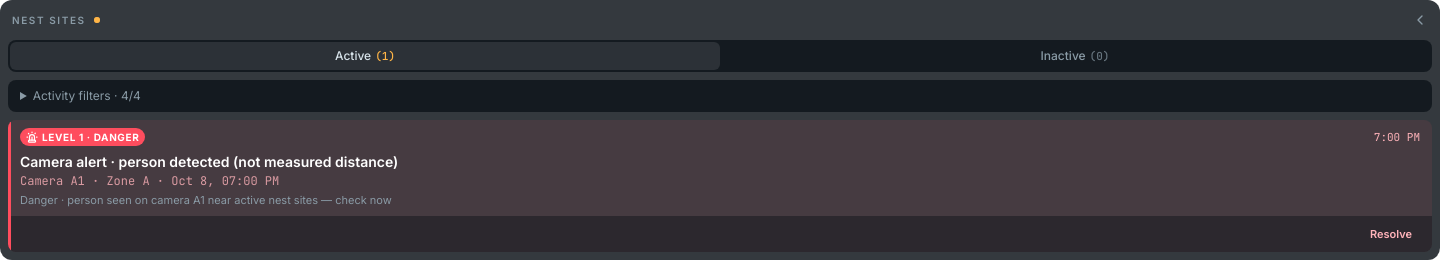
Scenario: AlertsFeed camera-level danger › shows the server message when a resolve fails
Click the button with aria-label "Resolve camera alert on camera A1" at (1391, 234), box 1362,222 -> 1420,246
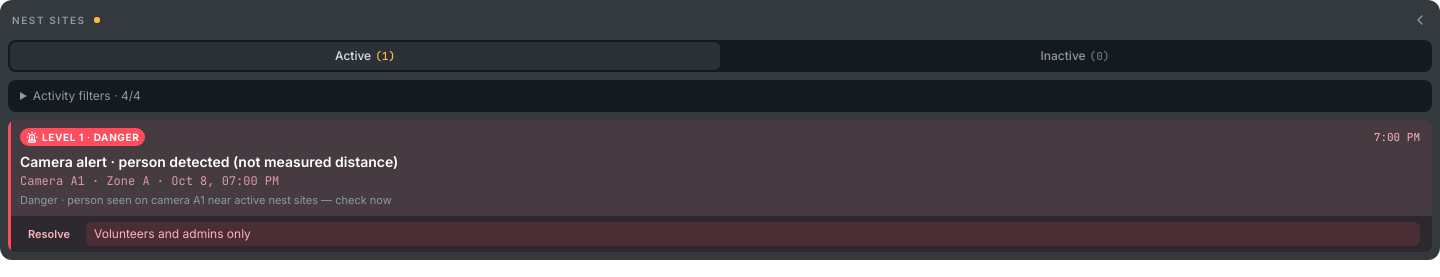
Expected: the message reads "Volunteers and admins only", 94,226 -> 251,241
